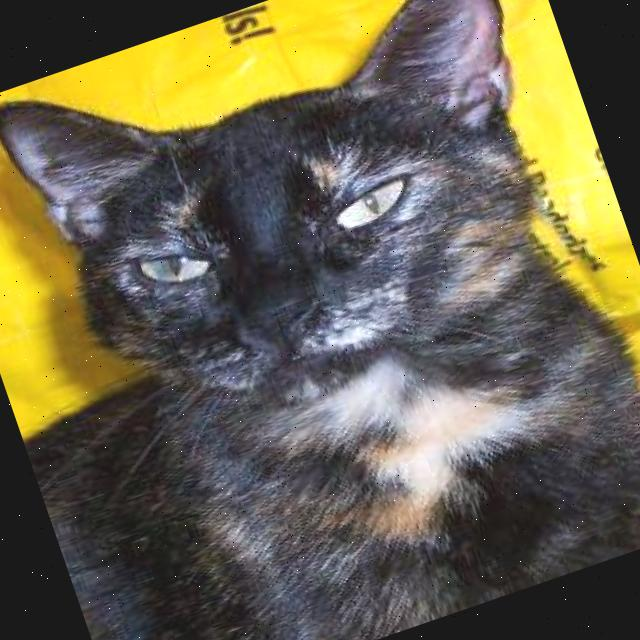cat-eye-normal: (300, 154, 450, 253), (114, 218, 229, 314)
